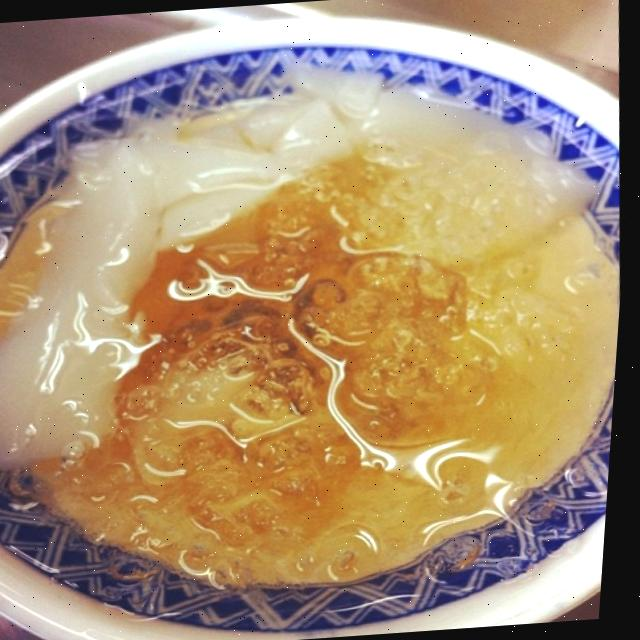蛋糕甜品: (0, 12, 639, 637)
